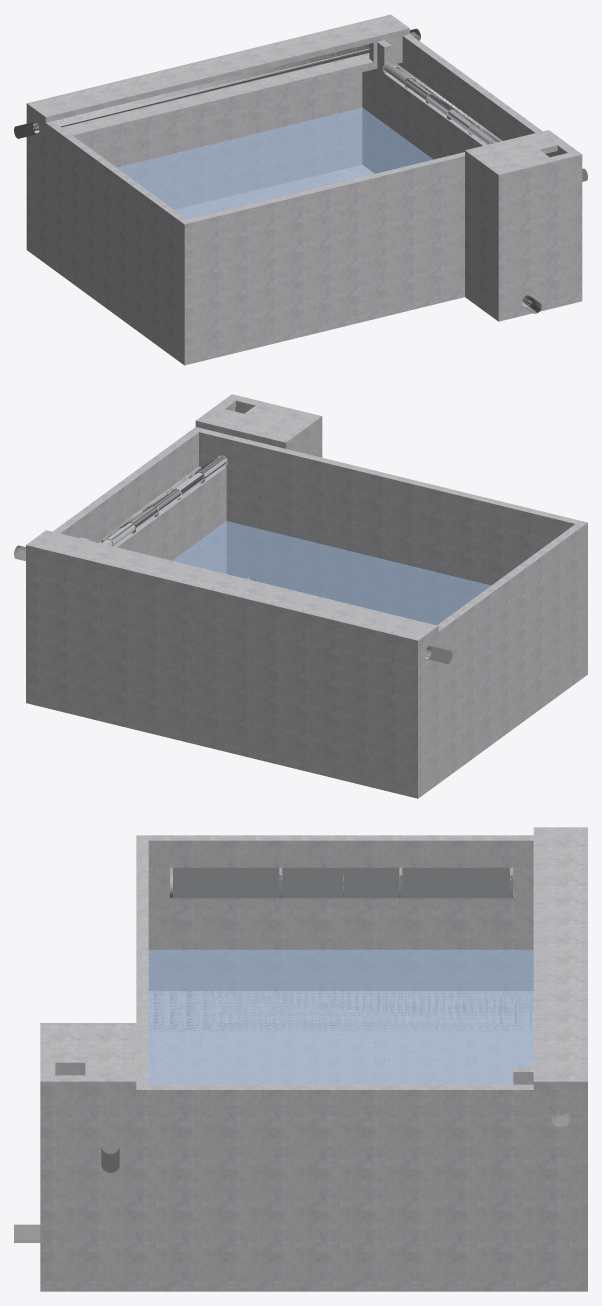
Rendered from tancs.glb.
3 views of the same model, one above another, from view 1: azimuth 30°, elevation 25°; view 2: azimuth 150°, elevation 25°; view 3: azimuth 270°, elevation 25° (orthographic). The views are drawn at different scales.
Parts seen in each view (by area): view 1: Group2, suelos_dwg1, HM_Cam_Principal___HM_Cam_Principal_1097506__3D__4_1, Group1, Revestimiento, tuberias_dwg1; view 2: Group2, suelos_dwg1, HM_Cam_Principal___HM_Cam_Principal_1097506__3D__4_1, Revestimiento, tuberias_dwg1; view 3: Group2, HM_Cam_Principal___HM_Cam_Principal_1097506__3D__4_1, suelos_dwg1, Group1, Revestimiento, tuberias_dwg1.
Part boxes in pixels (box(x1,y1,x2,y2)): Group2: box(26, 34, 582, 357); suelos_dwg1: box(26, 14, 582, 365); HM_Cam_Principal___HM_Cam_Principal_1097506__3D__4_1: box(117, 107, 432, 219); Group1: box(53, 44, 502, 219); Revestimiento: box(383, 62, 499, 144); tuberias_dwg1: box(14, 28, 587, 313); Group2: box(26, 394, 587, 790); suelos_dwg1: box(26, 399, 587, 798); HM_Cam_Principal___HM_Cam_Principal_1097506__3D__4_1: box(172, 521, 490, 625); Revestimiento: box(99, 455, 227, 546); tuberias_dwg1: box(14, 545, 452, 663); Group2: box(40, 835, 587, 1280); HM_Cam_Principal___HM_Cam_Principal_1097506__3D__4_1: box(148, 949, 533, 1084); suelos_dwg1: box(40, 827, 587, 1291); Group1: box(148, 991, 533, 1084); Revestimiento: box(173, 867, 512, 898); tuberias_dwg1: box(14, 1107, 569, 1242).
Bounding box in the file's own units: 22.52 × 7.7 × 19.07.
Materials: 15 (4 with a texture image).
